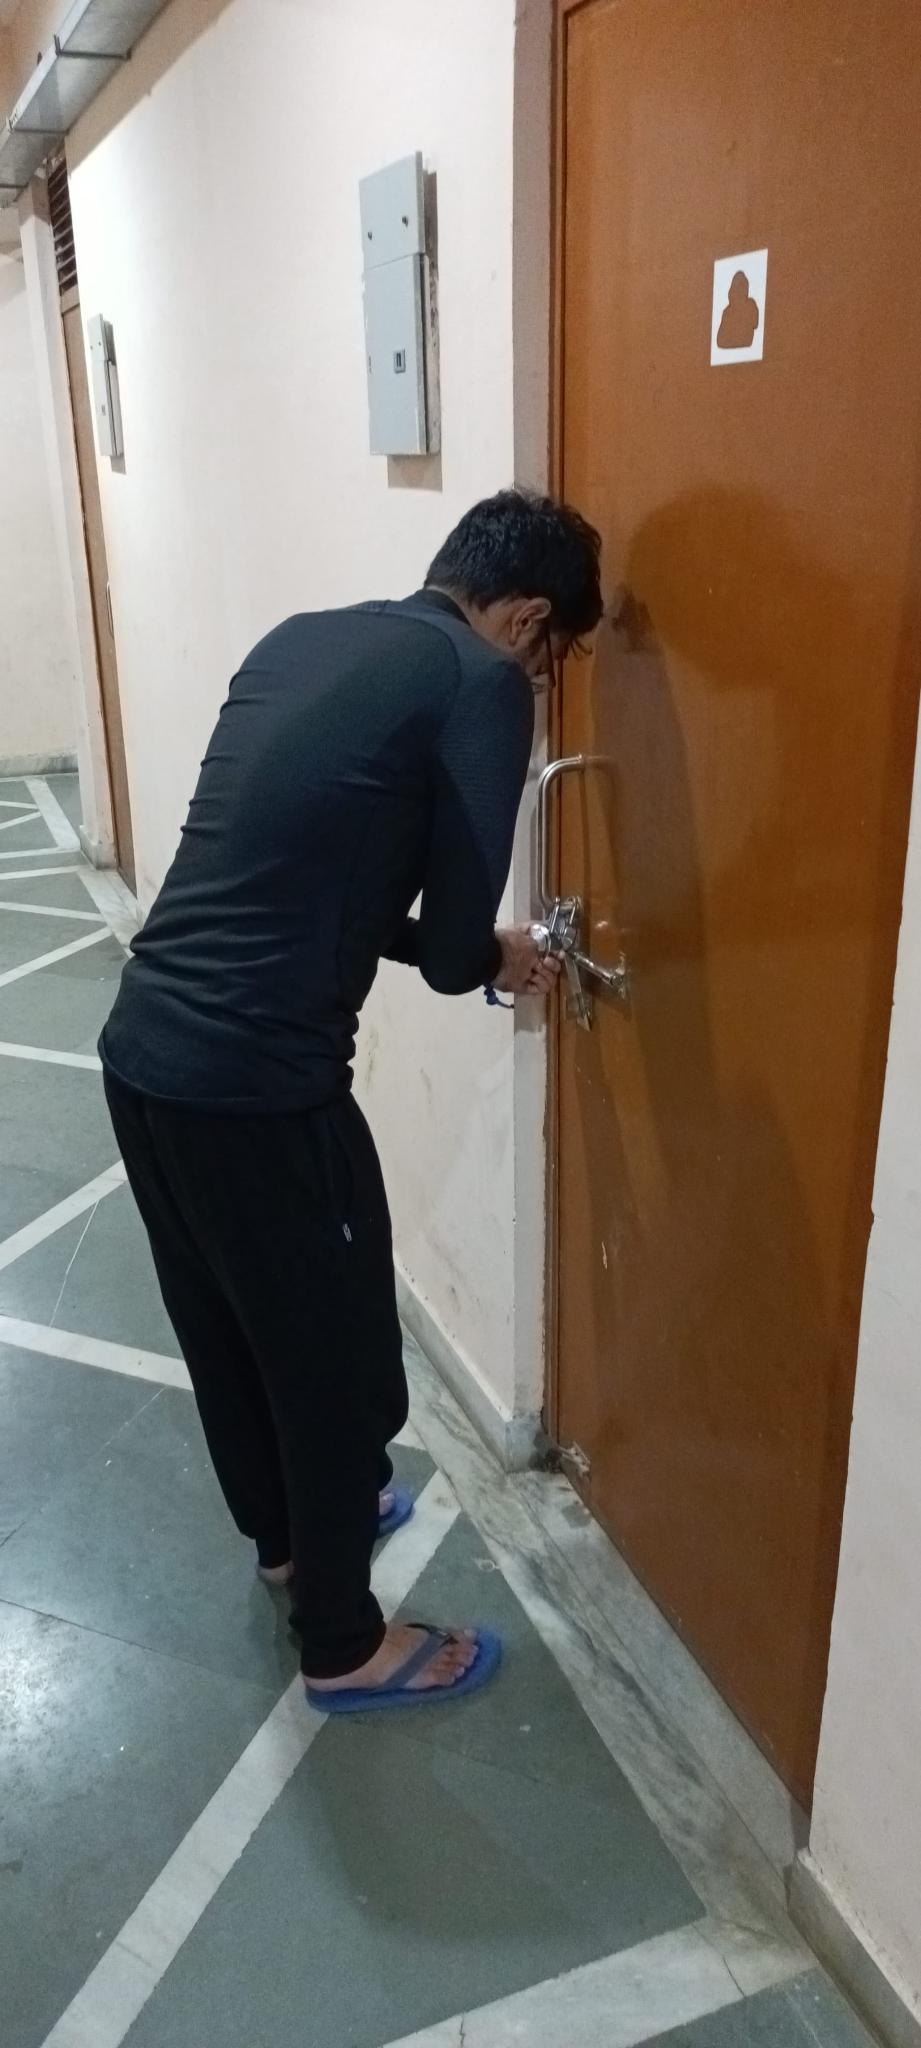suspicion: (94, 468, 665, 1776)
